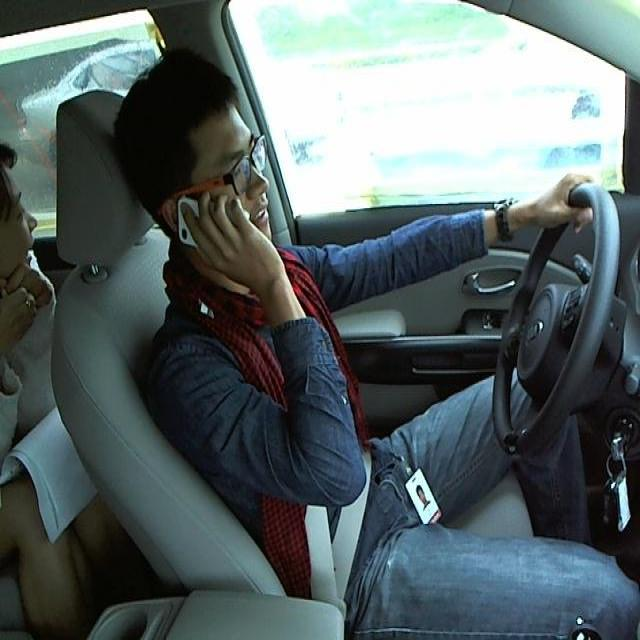using_phone: (54, 27, 360, 373)
